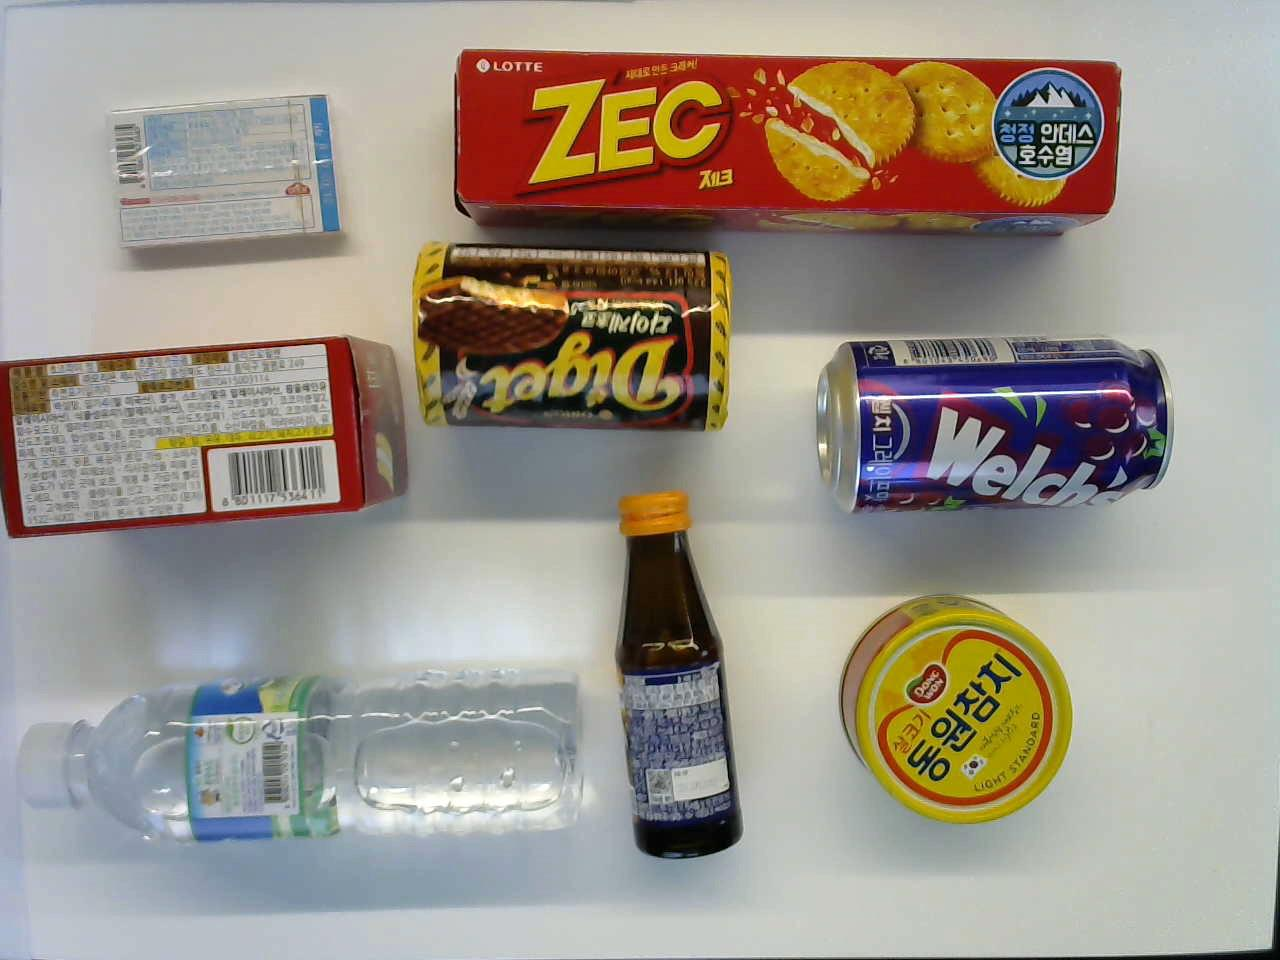ID_gum: (93, 88, 352, 263)
chocopie: (1, 334, 411, 541)
diget_choco: (407, 237, 733, 434)
samdasu: (14, 668, 585, 844)
tuna: (835, 589, 1078, 827)
vita500: (606, 484, 750, 865)
welchs: (805, 334, 1178, 522)
zec: (446, 42, 1124, 240)
